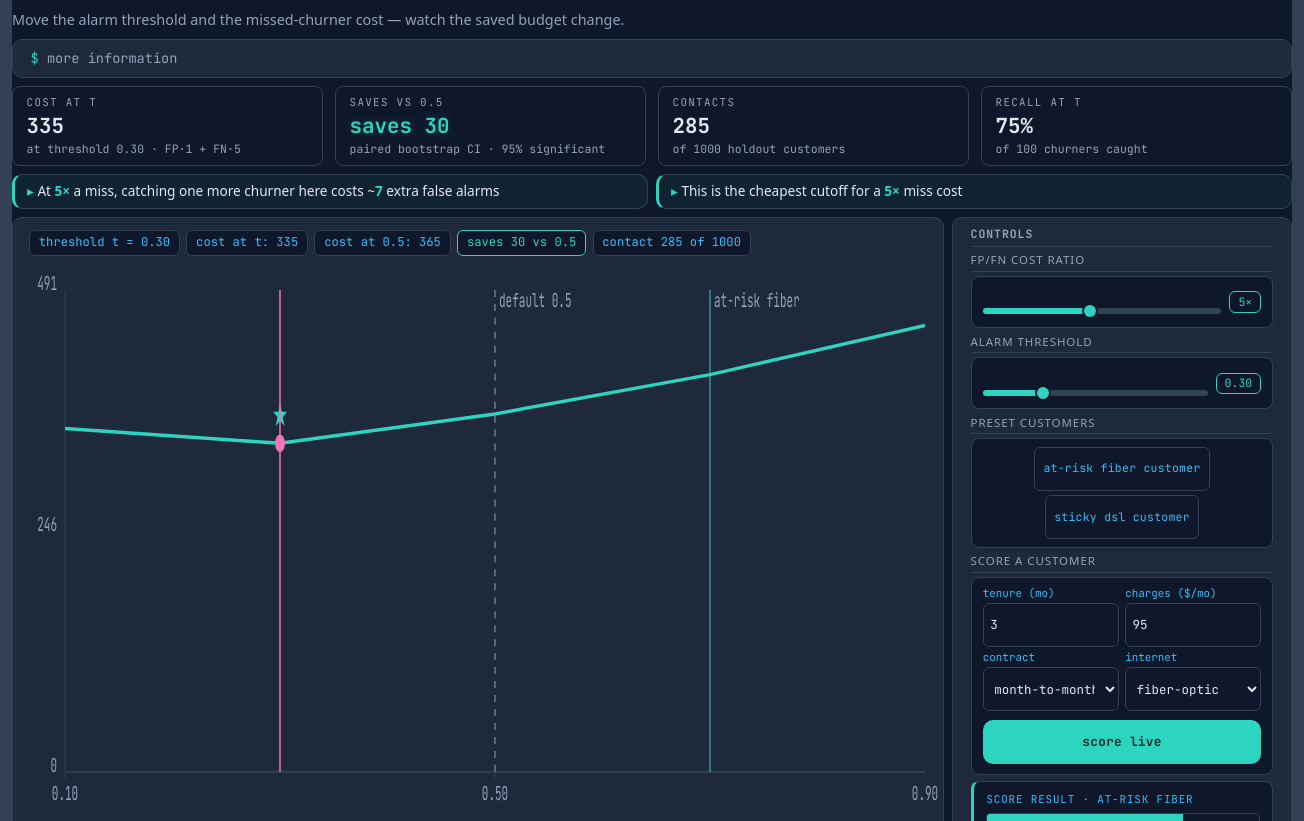
ChurnSandbox › shows a graceful notice when live scoring returns 503
The width and height of the screenshot is (1304, 821).
Expected: the text "cost at t: 335" is shown, [186,230,308,256]
Click the button "score live" at (1122, 742), box [983,720,1261,764]
(page scrolled)
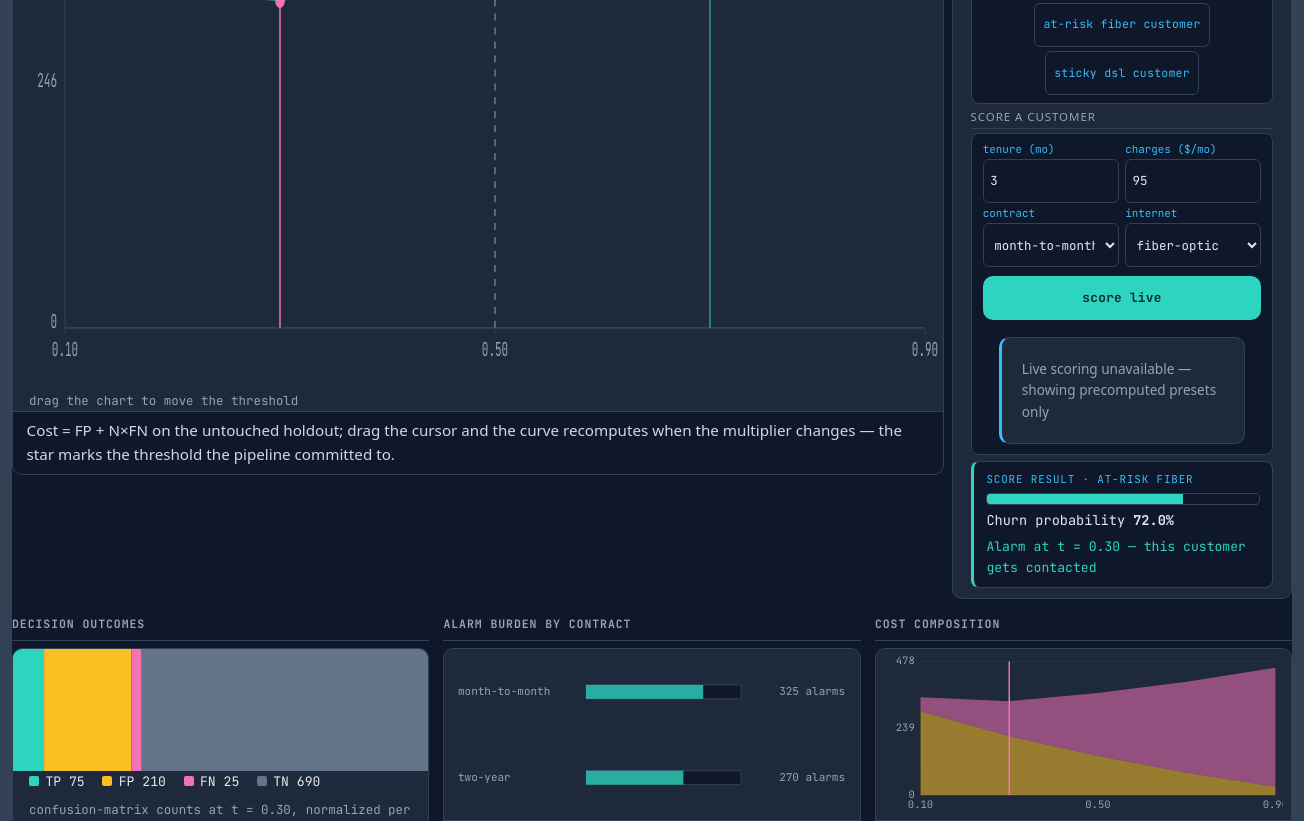
Expected: the text "Live scoring unavailable — showing precomputed presets only" is shown, [999,337,1245,444]
